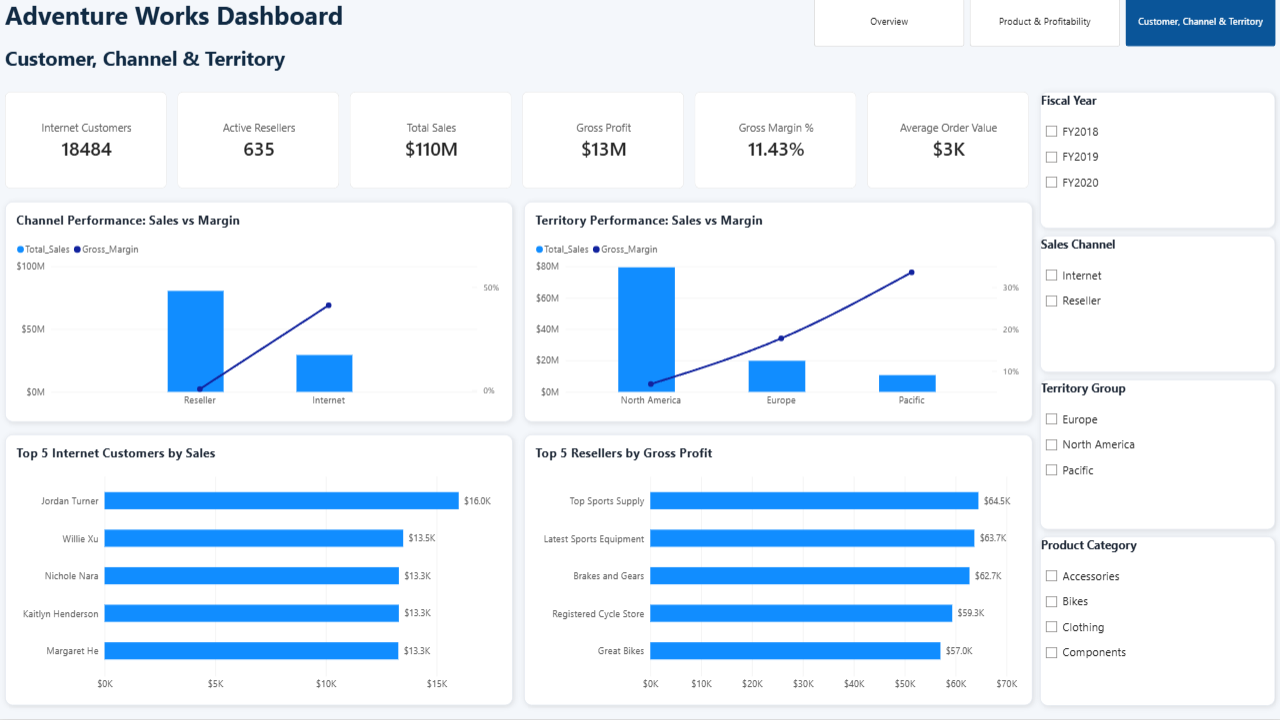

The page's visual inventory and layout, read from the dashboard file:
{"tool":"powerbi","page":{"name":"Customer, Channel & Territory","canvas":[1920,1080],"ordinal":2},"visuals":[{"type":"cardVisual","fields":{"Data":["public fact_sales.Internet_Customers","public fact_sales.Active_Resellers","public fact_sales.Total_Sales","public fact_sales.Gross_Profit","public fact_sales.Gross_Margin","public fact_sales.Average_Order_value"]},"box":[9,141,1537,145],"z":0},{"type":"lineClusteredColumnComboChart","title":"Channel Performance: Sales vs Margin","fields":{"Category":["public dim_sales_order.channel"],"Y":["public fact_sales.Total_Sales"],"Y2":["public fact_sales.Gross_Margin"]},"box":[9,305,760,330],"z":1000},{"type":"lineClusteredColumnComboChart","title":"Territory Performance: Sales vs Margin","fields":{"Category":["public dim_sales_territory.territory_group"],"Y":["public fact_sales.Total_Sales"],"Y2":["public fact_sales.Gross_Margin"]},"box":[785,305,761,330],"z":2000},{"type":"clusteredBarChart","title":"Top 5 Internet Customers by Sales","fields":{"Category":["public dim_customer.customer"],"Y":["public fact_sales.Total_Sales"]},"box":[9,654,760,406],"z":3000},{"type":"clusteredBarChart","title":"Top 5 Resellers by Gross Profit","fields":{"Category":["public dim_reseller.reseller"],"Y":["public fact_sales.Gross_Profit"]},"box":[785,654,761,406],"z":4000},{"type":"textbox","box":[9,0,620,70],"z":5000},{"type":"textbox","box":[9,70,760,62],"z":6000},{"type":"slicer","title":"Fiscal Year","fields":{"Values":["public dim_date.fiscal_year"]},"box":[1558,141,352,205],"z":7000},{"type":"slicer","title":"Sales Channel","fields":{"Values":["public dim_sales_order.channel"]},"box":[1558,356,352,205],"z":8000},{"type":"slicer","title":"Territory Group","fields":{"Values":["public dim_sales_territory.territory_group"]},"box":[1558,571,352,225],"z":9000},{"type":"slicer","title":"Product Category","fields":{"Values":["public dim_product.category"]},"box":[1558,806,352,254],"z":10000},{"type":"pageNavigator","box":[1220,0,691,73],"z":11000}]}

Visuals, with their boxes in screenshot pixels (x1, y1, x2, y2), scaled from the page's 1920x1080 canvas onto the 1280x720 screenshot:
cardVisual - public fact_sales.Internet_Customers x public fact_sales.Active_Resellers: bbox=(6, 94, 1031, 191)
"Channel Performance: Sales vs Margin" lineClusteredColumnComboChart: bbox=(6, 203, 513, 423)
"Territory Performance: Sales vs Margin" lineClusteredColumnComboChart: bbox=(523, 203, 1031, 423)
"Top 5 Internet Customers by Sales" clusteredBarChart: bbox=(6, 436, 513, 707)
"Top 5 Resellers by Gross Profit" clusteredBarChart: bbox=(523, 436, 1031, 707)
textbox: bbox=(6, 0, 419, 47)
textbox: bbox=(6, 47, 513, 88)
"Fiscal Year" slicer: bbox=(1039, 94, 1273, 231)
"Sales Channel" slicer: bbox=(1039, 237, 1273, 374)
"Territory Group" slicer: bbox=(1039, 381, 1273, 531)
"Product Category" slicer: bbox=(1039, 537, 1273, 707)
pageNavigator: bbox=(813, 0, 1274, 49)
